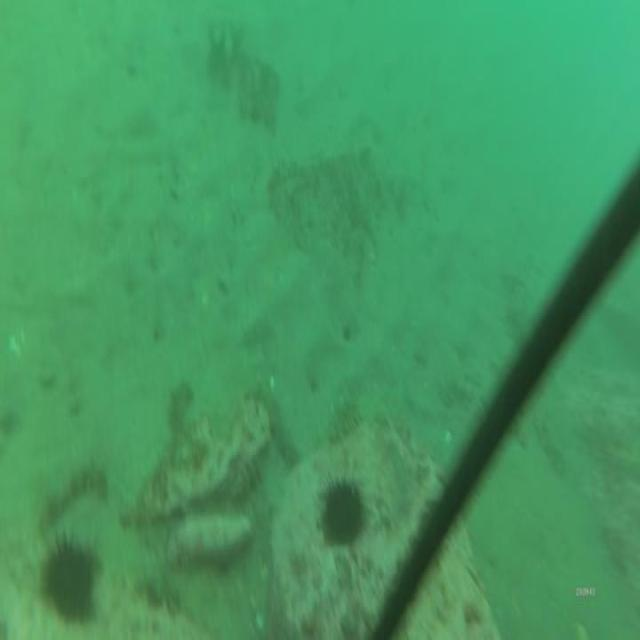echinus: (37, 521, 105, 629), (313, 469, 376, 550)
holothurian: (45, 458, 105, 511)
